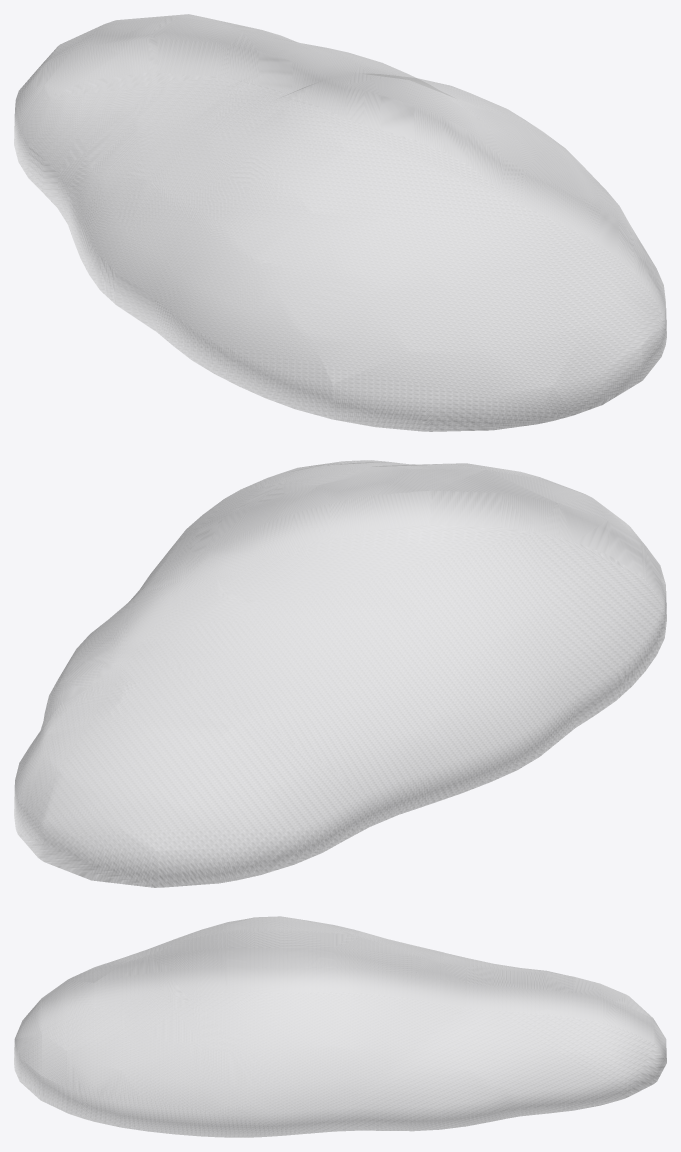
The model's file is cloudx3.glb.
3 renders of one model, top to bottom at view 1: azimuth 30°, elevation 25°; view 2: azimuth 150°, elevation 25°; view 3: azimuth 270°, elevation 25°, orthographic. The views are drawn at different scales.
Parts seen in each view (by area): view 1: Mball.006; view 2: Mball.006; view 3: Mball.006.
Part boxes in pixels (left/top/right/bottom): Mball.006: left=14, top=14, right=666, bottom=431; Mball.006: left=14, top=460, right=666, bottom=887; Mball.006: left=14, top=916, right=666, bottom=1137.
Bounding box in the file's own units: 4.72 × 2 × 8.87.
1 material, 1 textured.
